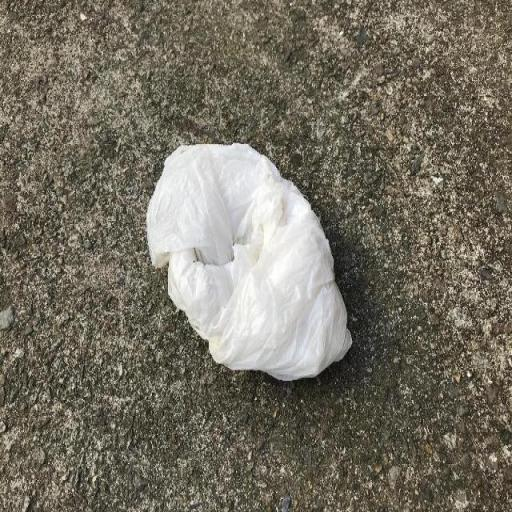plastic-bag: (141, 145, 350, 390)
